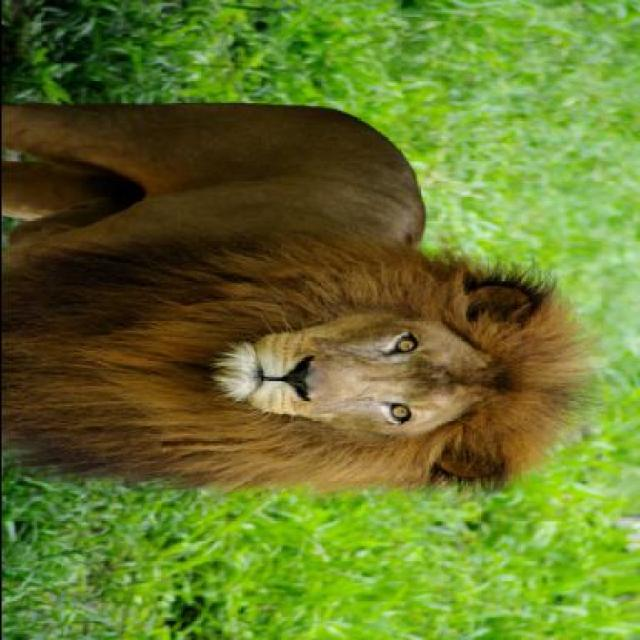Lion: (1, 69, 612, 526)
